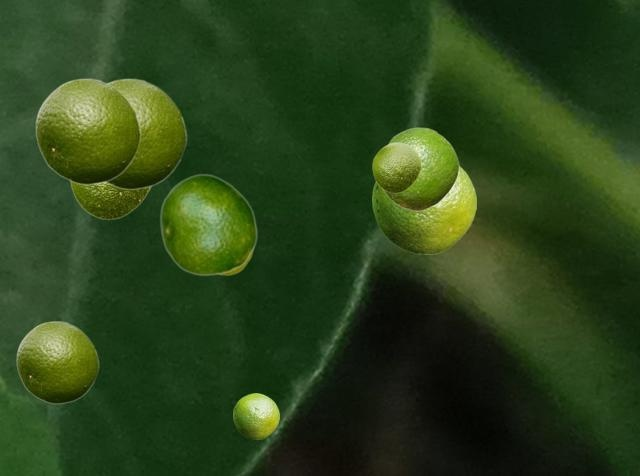calamansi: (35, 77, 140, 184), (159, 173, 257, 275), (105, 77, 186, 189), (372, 165, 475, 253), (16, 320, 98, 403), (383, 127, 458, 210), (70, 182, 151, 219), (372, 142, 420, 192), (233, 393, 278, 438), (226, 252, 253, 274)
